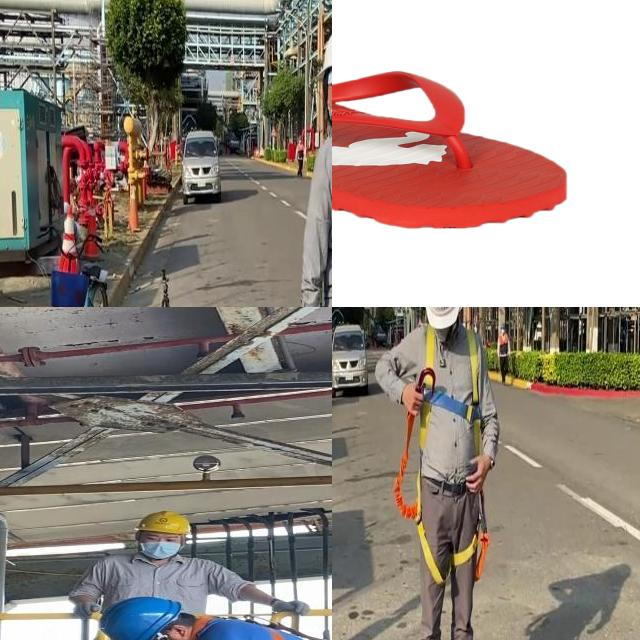Harness: (394, 414, 490, 606), (417, 325, 482, 454)
Sandals: (332, 58, 568, 231)
